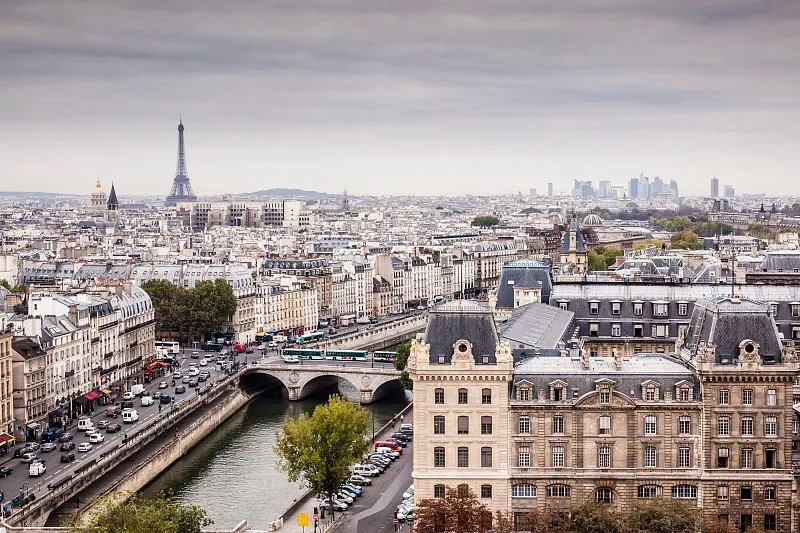Eiffel: (163, 115, 197, 207)
